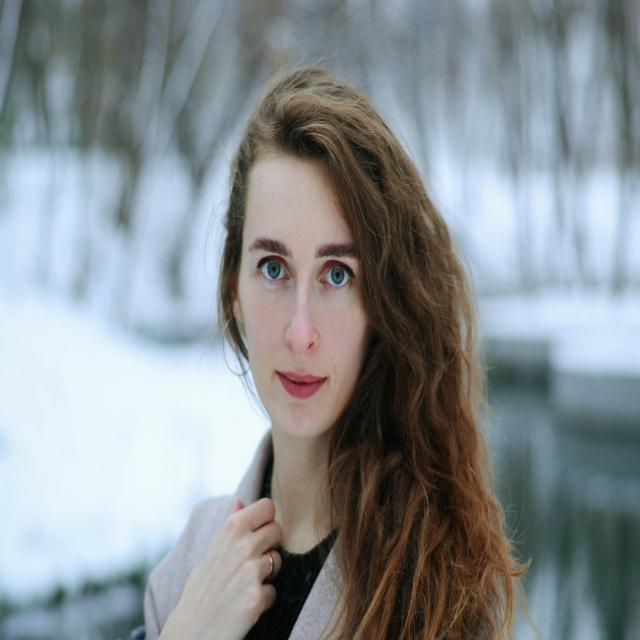mobile_phonerotation: (137, 62, 534, 638)
